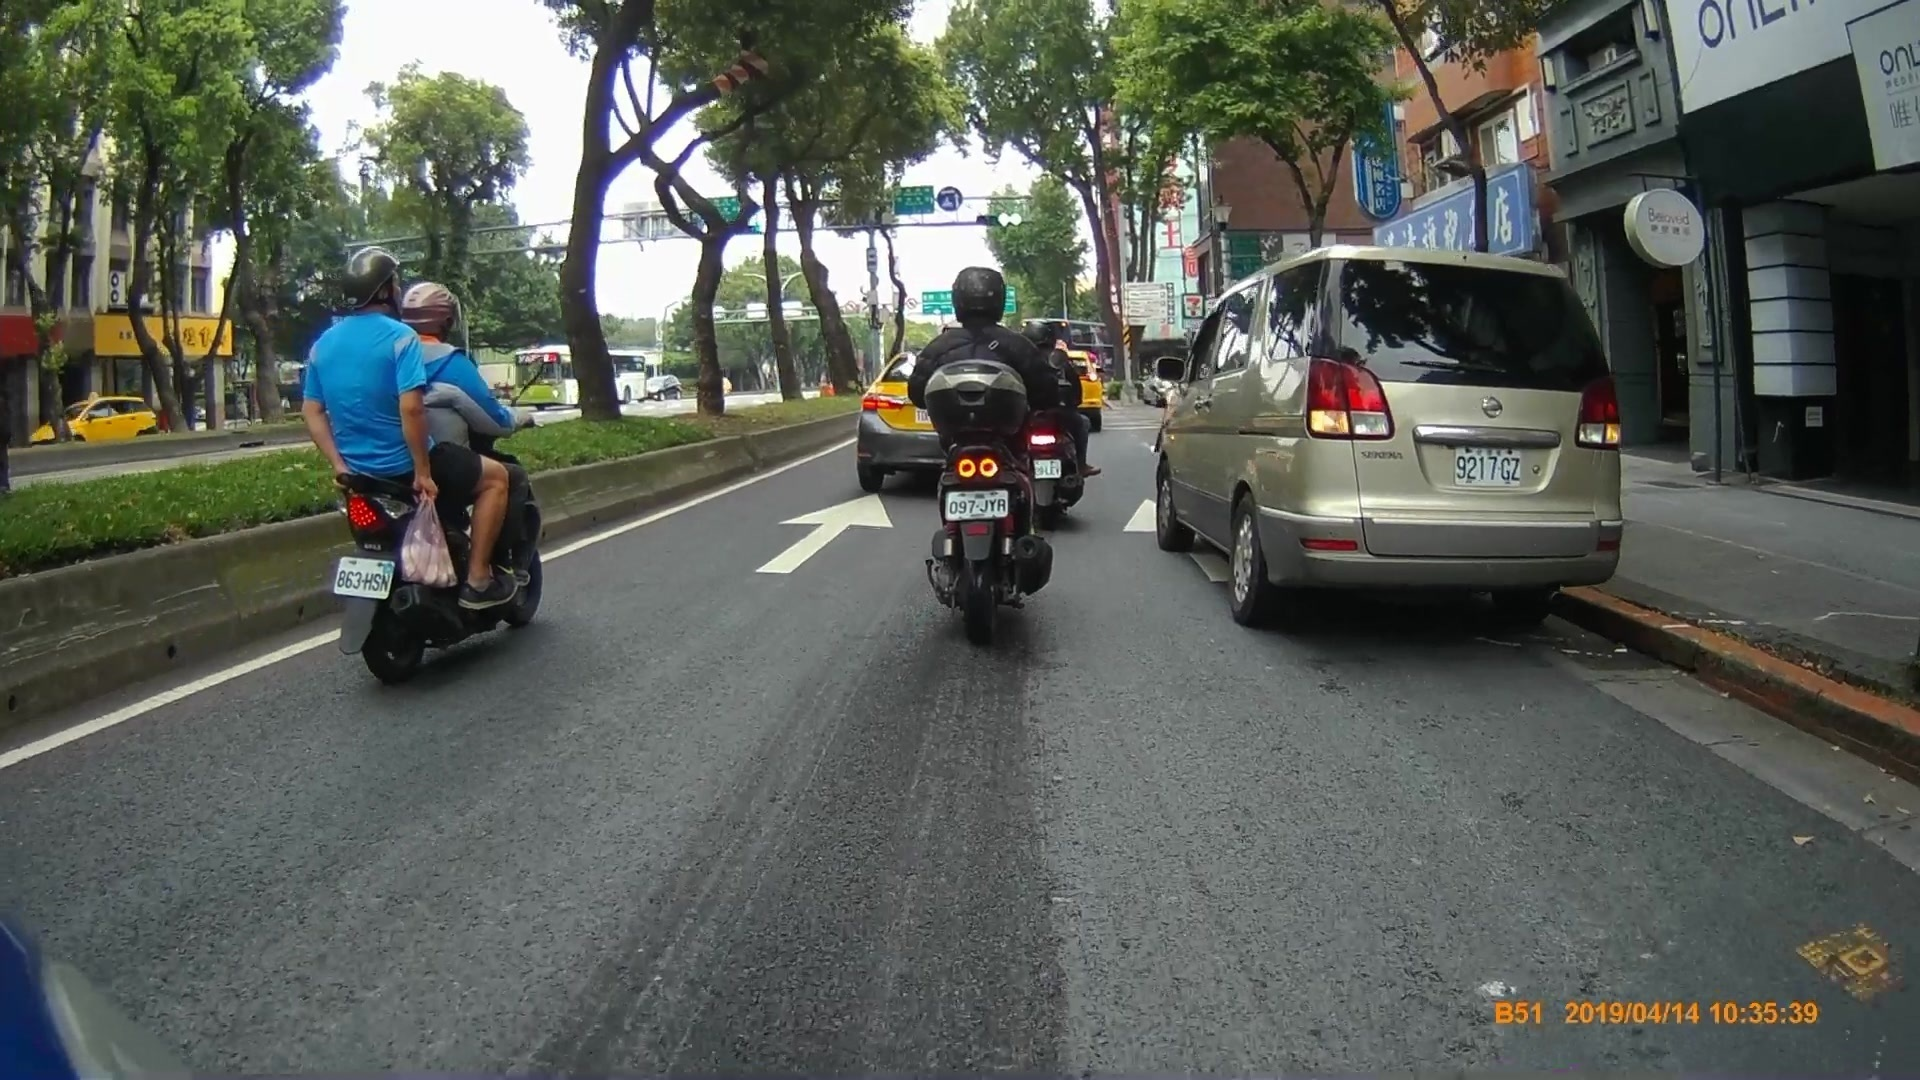License_plate: (332, 550, 394, 604), (1454, 443, 1525, 491), (944, 491, 1010, 518)
